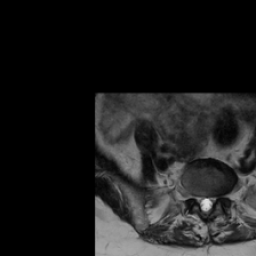CCS_normal: (202, 191, 208, 220)
LFS_severe_stenosis: (215, 187, 222, 204)
LLS_normal: (208, 191, 215, 213)
RFS_severe_stenosis: (189, 187, 196, 204)
RLS_normal: (196, 191, 202, 214)
